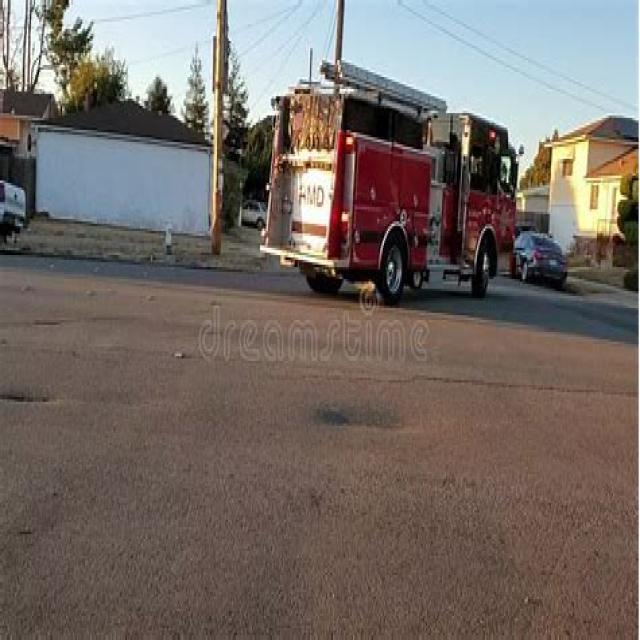Fire-engine: (258, 48, 522, 306)
